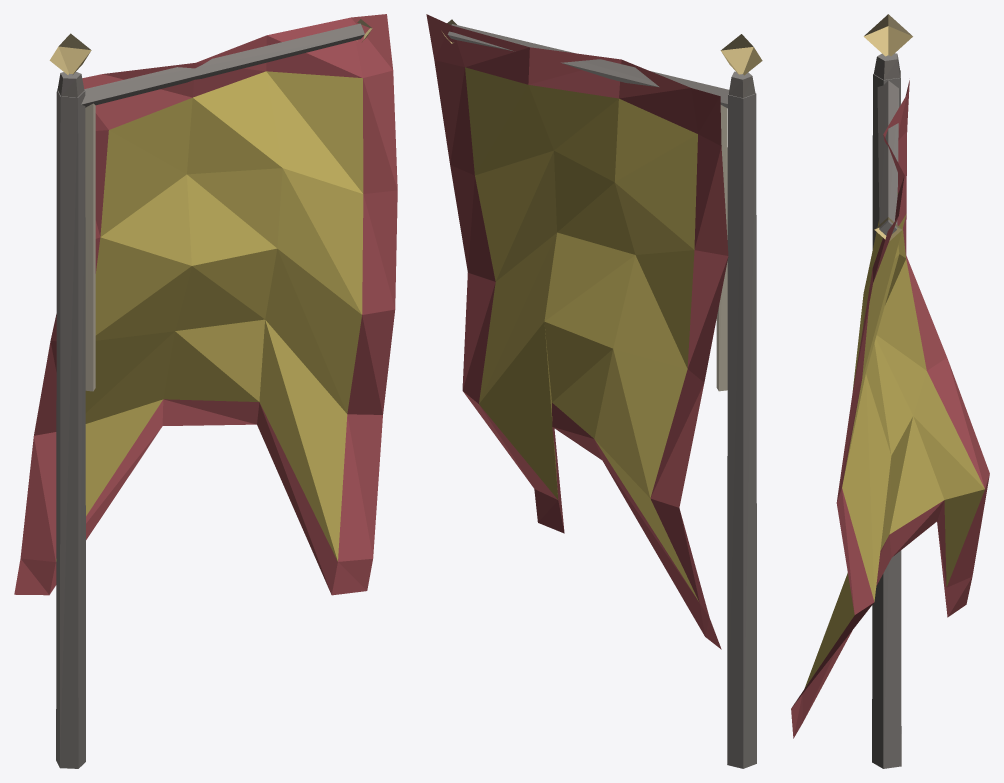
The model's file is flag.swallowtail.jinyan__pole.stick.fangun__armHang.glb.
3 views of the same model, side by side, from view 1: azimuth 30°, elevation 25°; view 2: azimuth 150°, elevation 25°; view 3: azimuth 270°, elevation 25° (orthographic). The views are drawn at different scales.
Parts seen in each view (by area): view 1: flag.swallowtail.jinyan; view 2: flag.swallowtail.jinyan; view 3: flag.swallowtail.jinyan.
Boxes of the visible parts, x1,y1,x2,y2 form: flag.swallowtail.jinyan: [14, 14, 397, 768]; flag.swallowtail.jinyan: [426, 14, 762, 768]; flag.swallowtail.jinyan: [791, 14, 989, 768].
Bounding box in the file's own units: 1.1 × 2.28 × 0.5501.
